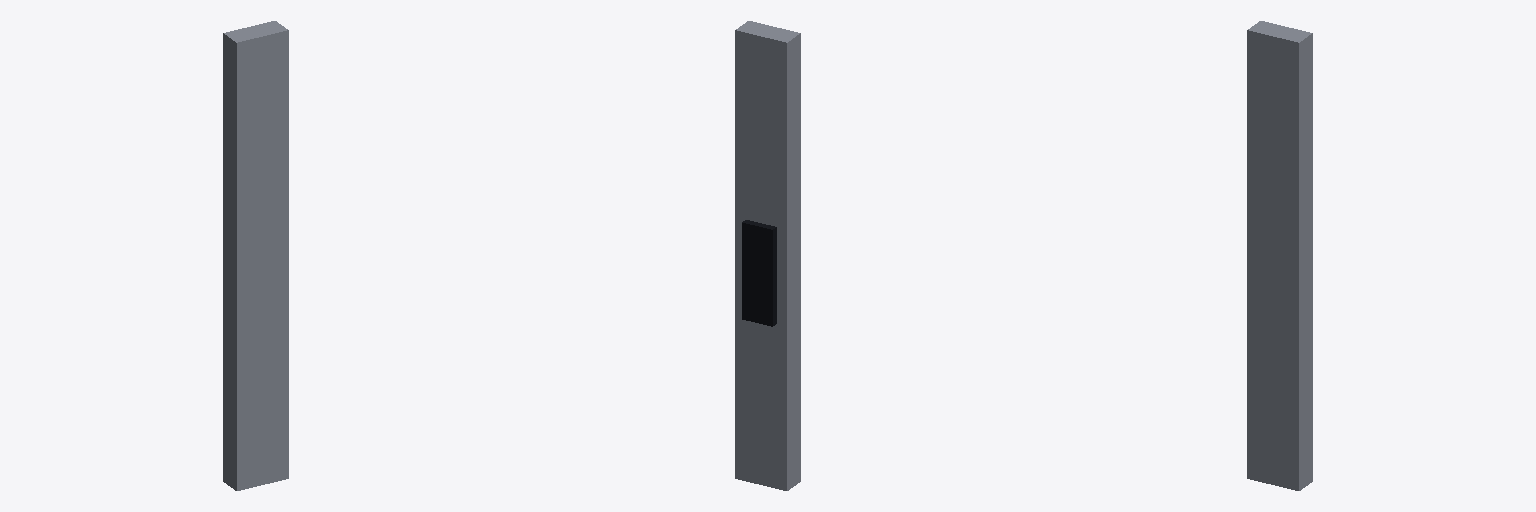
The robot description file, URDF, robot "artmanip_knife_012":
<?xml version='1.0' encoding='utf-8'?>
<robot name="artmanip_knife_012"><link name="link_0"><inertial><mass value="0.029" /><inertia ixx="5.598492775399914e-05" iyy="5.6644388731277536e-05" izz="9.787675629478946e-07" ixy="0" ixz="0" iyz="0" /></inertial><visual><geometry><box size="0.018410427368990914 0.008127941407135344 0.15198721515356806" /></geometry><material name="link_0_color"><color rgba=".58 .60 .64 1" /></material></visual><collision><geometry><box size="0.018410427368990914 0.008127941407135344 0.15198721515356806" /></geometry></collision></link><link name="link_1"><inertial><mass value="0.006" /><inertia ixx="5.4254739988439e-07" iyy="5.989009179384016e-07" izz="6.236284583446046e-08" ixy="0" ixz="0" iyz="0" /></inertial><visual><geometry><box size="0.010895703918906388 0.0024513930285551696 0.03284943640290243" /></geometry><material name="link_1_color"><color rgba=".12 .13 .15 1" /></material></visual><collision><geometry><box size="0.010895703918906388 0.0024513930285551696 0.03284943640290243" /></geometry></collision></link><joint name="slider" type="prismatic"><parent link="link_0" /><child link="link_1" /><origin xyz="0.0 0.005289667217845257 -0.003696554214604523" /><axis xyz="0 0 1" /><limit lower="-0.019101528058430683" upper="0.03089847194156932" effort="100" velocity="1" /><dynamics damping="1000" friction="0.001" /></joint></robot>

--- Facts derived from the render (not from the file) ---
Views: 3 orthographic renders of the robot side by side, from view 1: azimuth 30°, elevation 25°; view 2: azimuth 150°, elevation 25°; view 3: azimuth 330°, elevation 25°.
Model artmanip_knife_012 with 2 links and 1 joints (1 prismatic), rooted at link_0, posed all joints at 0.
Links seen in each view (by area): view 1: link_0; view 2: link_0, link_1; view 3: link_0.
Link boxes in pixels (left/top/right/bottom): link_0: left=223, top=21, right=288, bottom=490; link_0: left=735, top=21, right=800, bottom=490; link_1: left=742, top=220, right=776, bottom=326; link_0: left=1247, top=21, right=1312, bottom=490.
Size in the robot's own frame: 0.0184 by 0.0106 by 0.152 metres.
Geometry: primitives only (box / cylinder / sphere), no mesh files.
